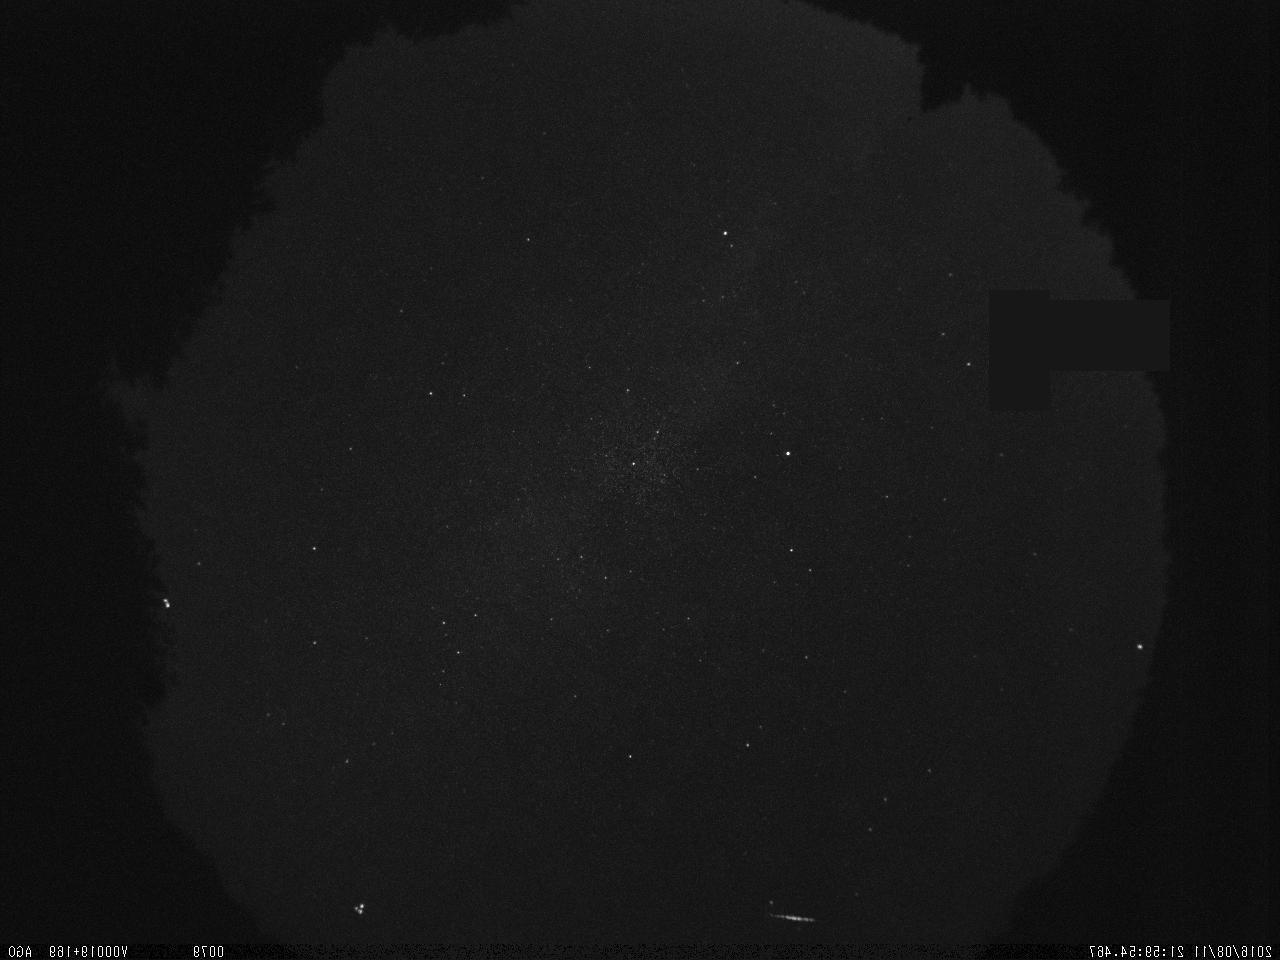meteor: (763, 900, 833, 935)
